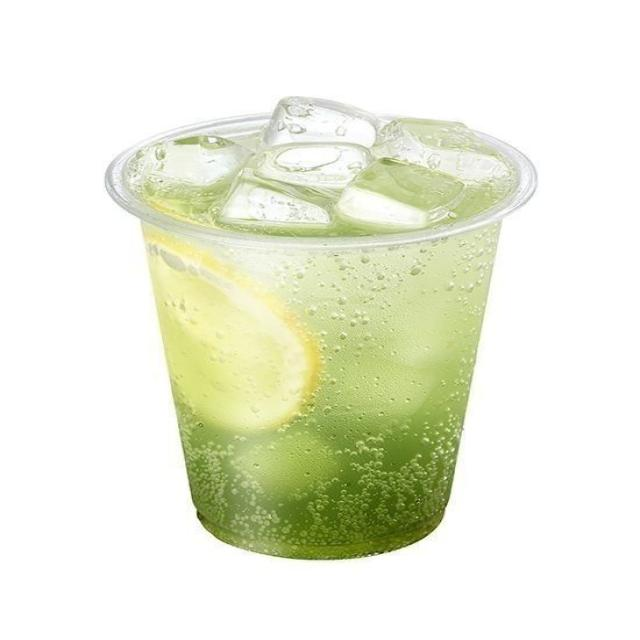plastic cup: (104, 95, 538, 561)
